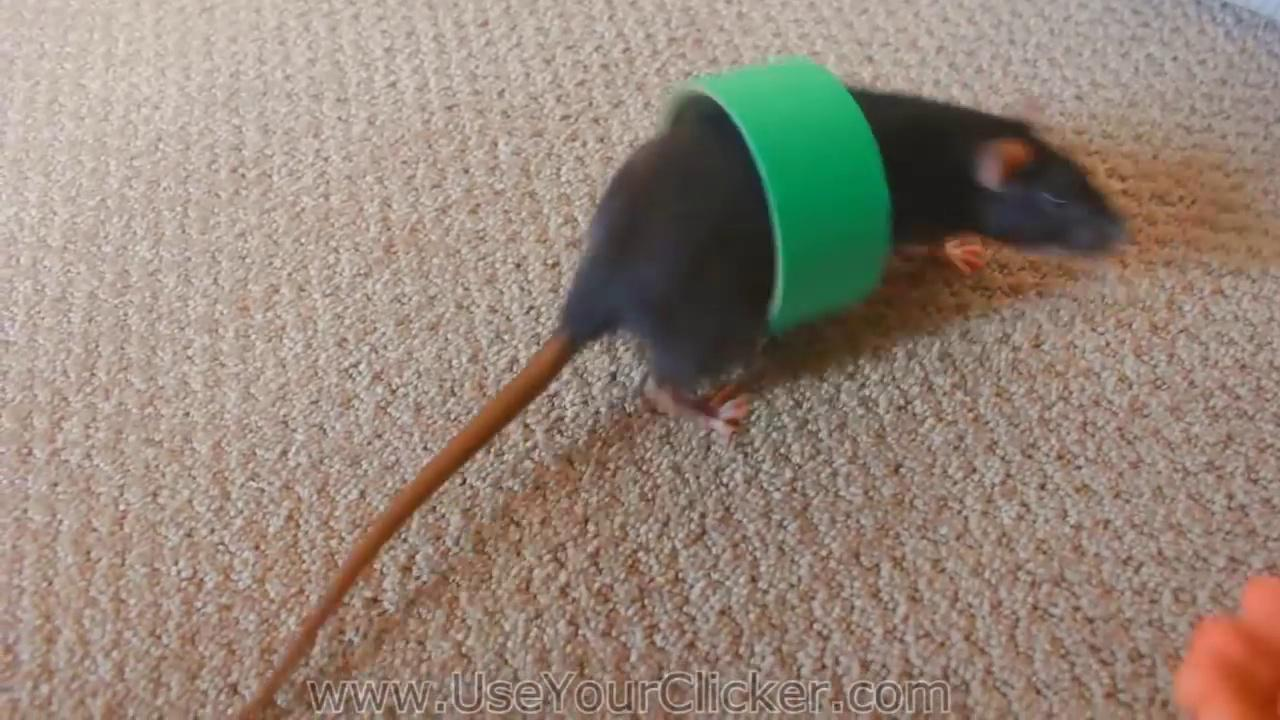rat: (230, 88, 1128, 720)
